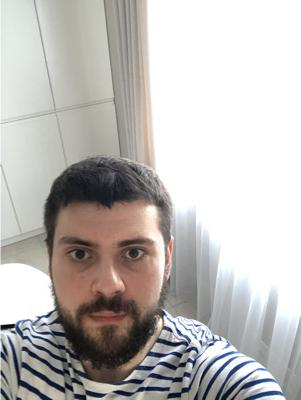without_mask: (50, 223, 162, 371)
